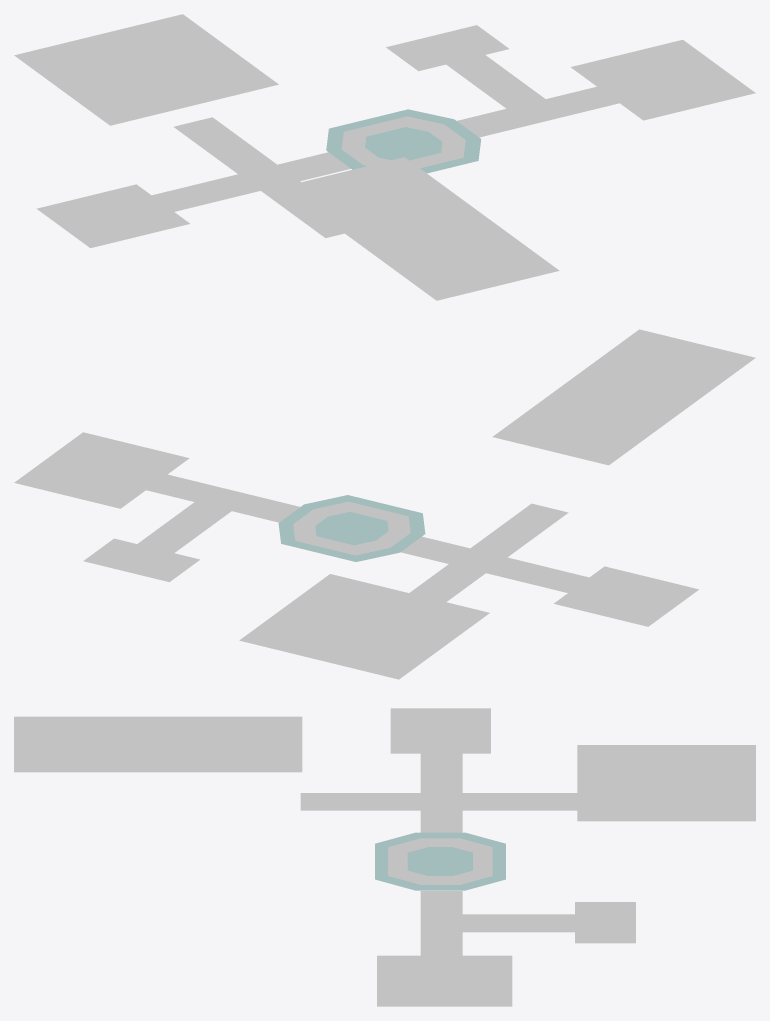
File: tutorial_ceiling.fbx
The picture shows the model from 3 angles, top to bottom: view 1: azimuth 30°, elevation 25°; view 2: azimuth 150°, elevation 25°; view 3: azimuth 270°, elevation 25°; orthographic projection. The views are drawn at different scales.
Visible parts, largest first — view 1: glide_room_ceiling, grapple_room_ceiling, portal_ceiling, main_ceiling, picture_room_ceiling, hallway_ceiling3, hallway_ceiling4, bedroom_ceiling, hallway_ceiling1, hallway_ceiling, hallway_ceiling2; view 2: glide_room_ceiling, grapple_room_ceiling, portal_ceiling, main_ceiling, picture_room_ceiling, hallway_ceiling3, hallway_ceiling4, bedroom_ceiling, hallway_ceiling2, hallway_ceiling, hallway_ceiling1; view 3: glide_room_ceiling, grapple_room_ceiling, portal_ceiling, main_ceiling, picture_room_ceiling, hallway_ceiling3, hallway_ceiling4, bedroom_ceiling, hallway_ceiling2, hallway_ceiling, hallway_ceiling1.
Boxes of the visible parts, bbox=[...] form: glide_room_ceiling: bbox=[281, 157, 559, 300]; grapple_room_ceiling: bbox=[14, 14, 278, 125]; portal_ceiling: bbox=[570, 39, 755, 120]; main_ceiling: bbox=[326, 109, 481, 173]; picture_room_ceiling: bbox=[37, 184, 189, 248]; hallway_ceiling3: bbox=[151, 152, 350, 211]; hallway_ceiling4: bbox=[457, 86, 619, 137]; bedroom_ceiling: bbox=[386, 25, 508, 71]; hallway_ceiling1: bbox=[173, 117, 276, 173]; hallway_ceiling: bbox=[446, 54, 546, 109]; hallway_ceiling2: bbox=[260, 181, 344, 238]; glide_room_ceiling: bbox=[493, 329, 755, 465]; grapple_room_ceiling: bbox=[239, 574, 489, 679]; portal_ceiling: bbox=[14, 432, 189, 508]; main_ceiling: bbox=[278, 495, 425, 561]; picture_room_ceiling: bbox=[554, 566, 698, 626]; hallway_ceiling3: bbox=[401, 536, 589, 593]; hallway_ceiling4: bbox=[146, 474, 299, 522]; bedroom_ceiling: bbox=[83, 538, 199, 582]; hallway_ceiling2: bbox=[470, 503, 568, 557]; hallway_ceiling: bbox=[137, 501, 231, 553]; hallway_ceiling1: bbox=[409, 564, 485, 601]; glide_room_ceiling: bbox=[14, 716, 302, 772]; grapple_room_ceiling: bbox=[577, 745, 755, 821]; portal_ceiling: bbox=[377, 955, 512, 1006]; main_ceiling: bbox=[375, 832, 505, 890]; picture_room_ceiling: bbox=[390, 708, 490, 753]; hallway_ceiling3: bbox=[420, 753, 462, 832]; hallway_ceiling4: bbox=[420, 891, 462, 955]; bedroom_ceiling: bbox=[575, 902, 635, 943]; hallway_ceiling2: bbox=[300, 793, 421, 810]; hallway_ceiling: bbox=[460, 914, 575, 932]; hallway_ceiling1: bbox=[461, 793, 577, 810].
Bounding box in the file's own units: 83.52 × 7.41 × 87.88.
